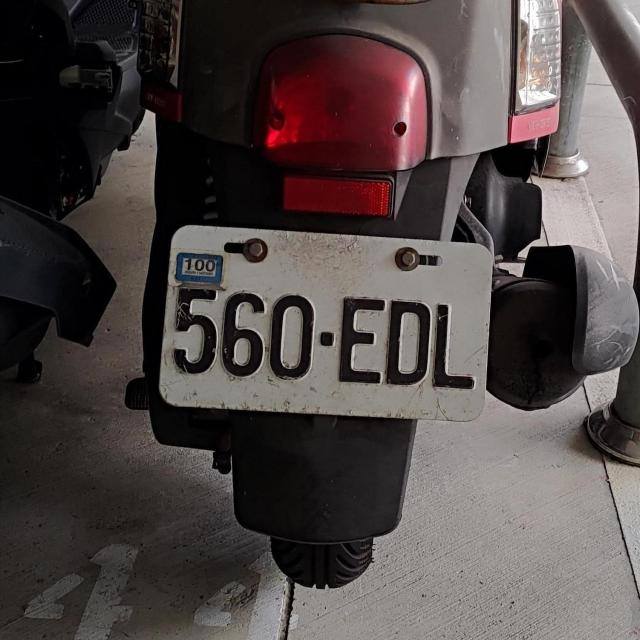W: (157, 226, 486, 422)
